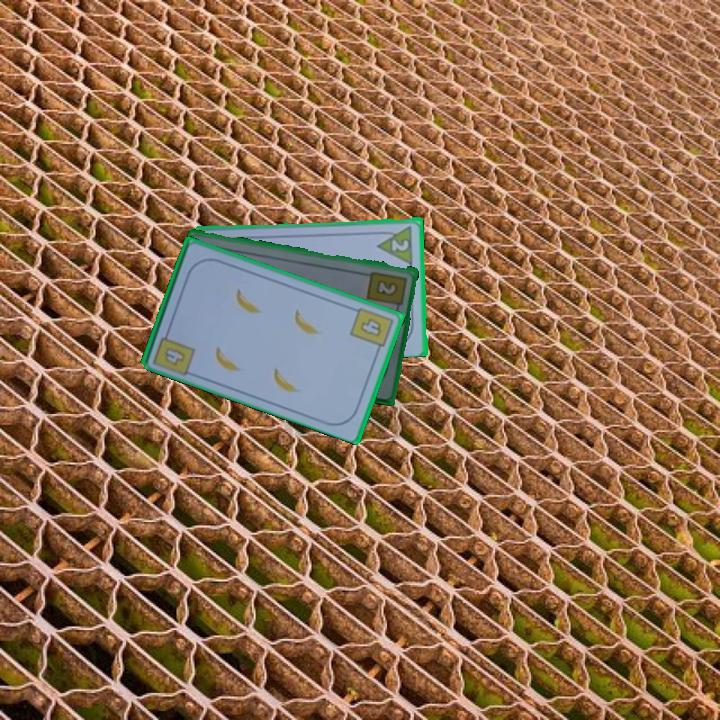2b: (364, 268, 410, 314)
2p: (374, 222, 416, 266)
4b: (347, 303, 396, 356), (161, 343, 189, 368)
